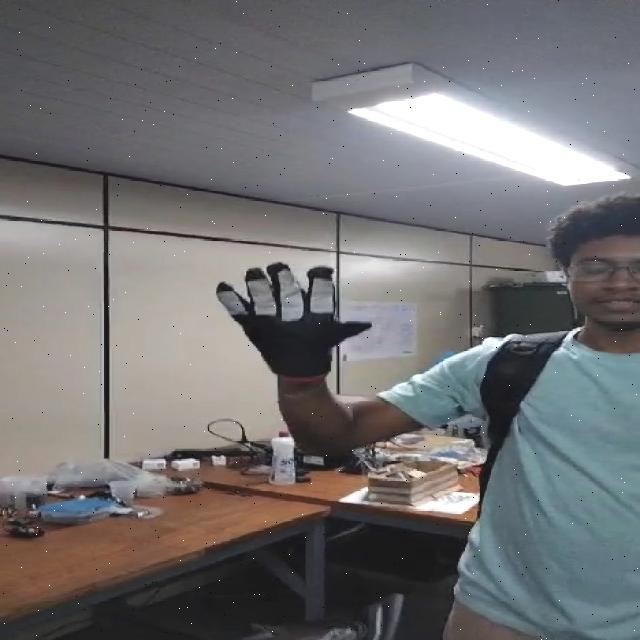Gloves: (211, 261, 378, 386)
